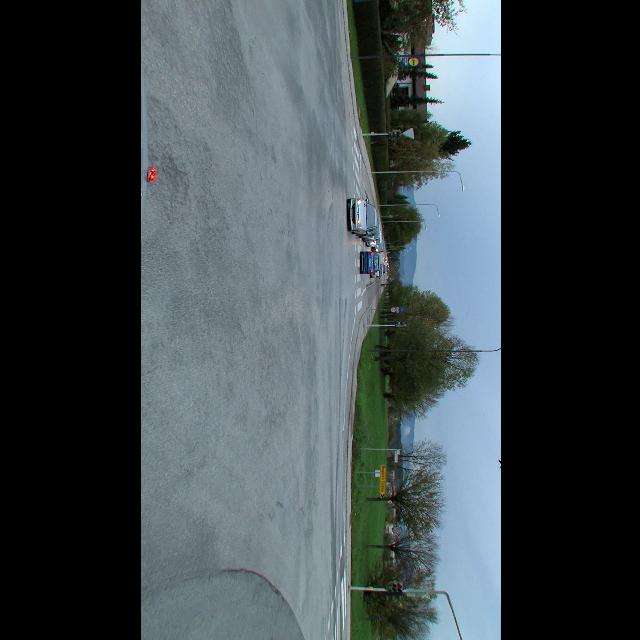Multi-inform: (378, 465, 386, 497)
